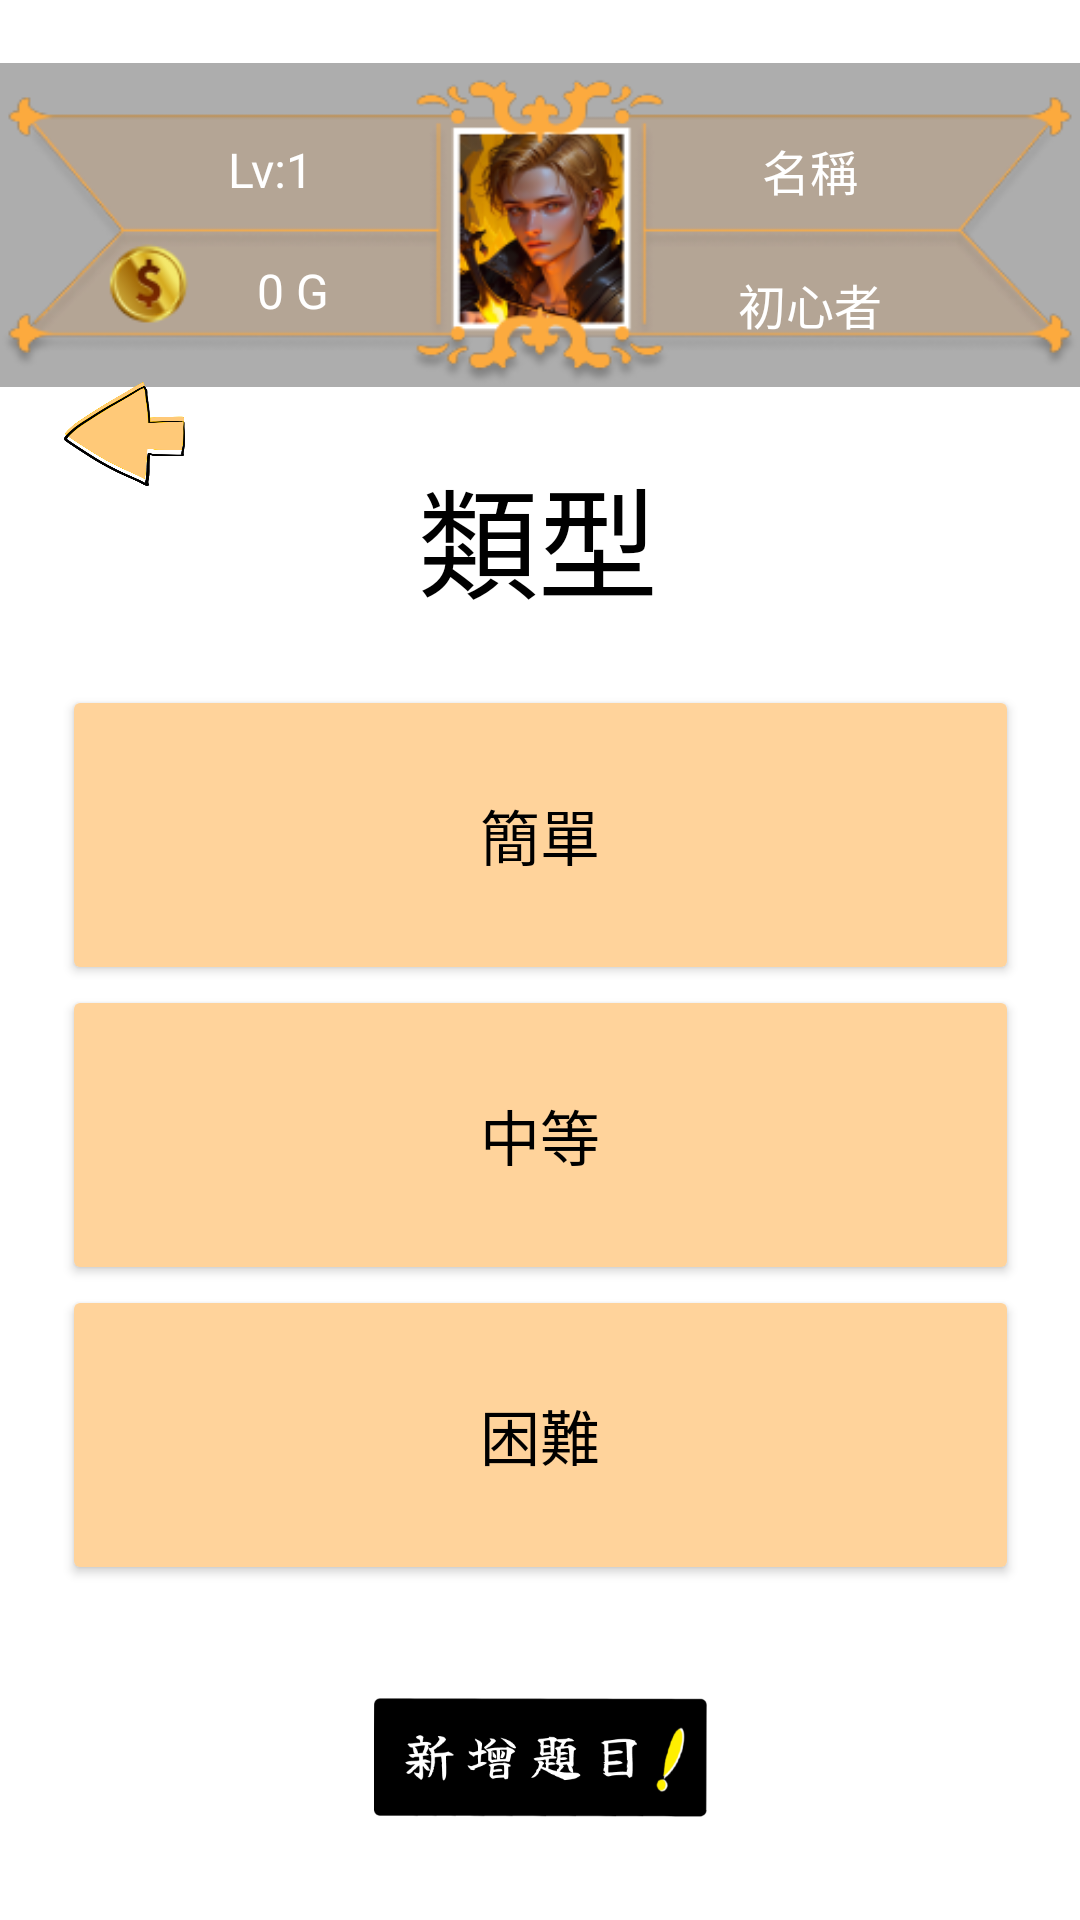

Named icons in this screenshot (1080w x 1920h) and their bounding boxes, (x1=x1, y1=y1, x2=x2, y2=y2):
back: (x1=27, y1=351, x2=222, y2=486)
